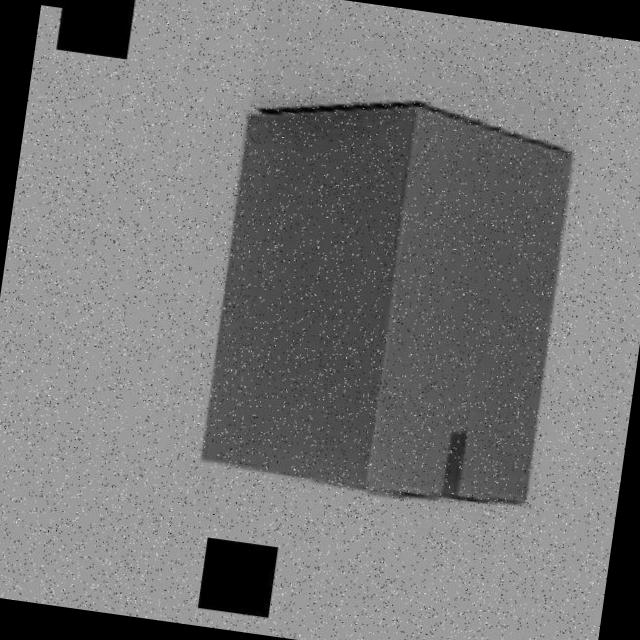box: (180, 77, 586, 520)
